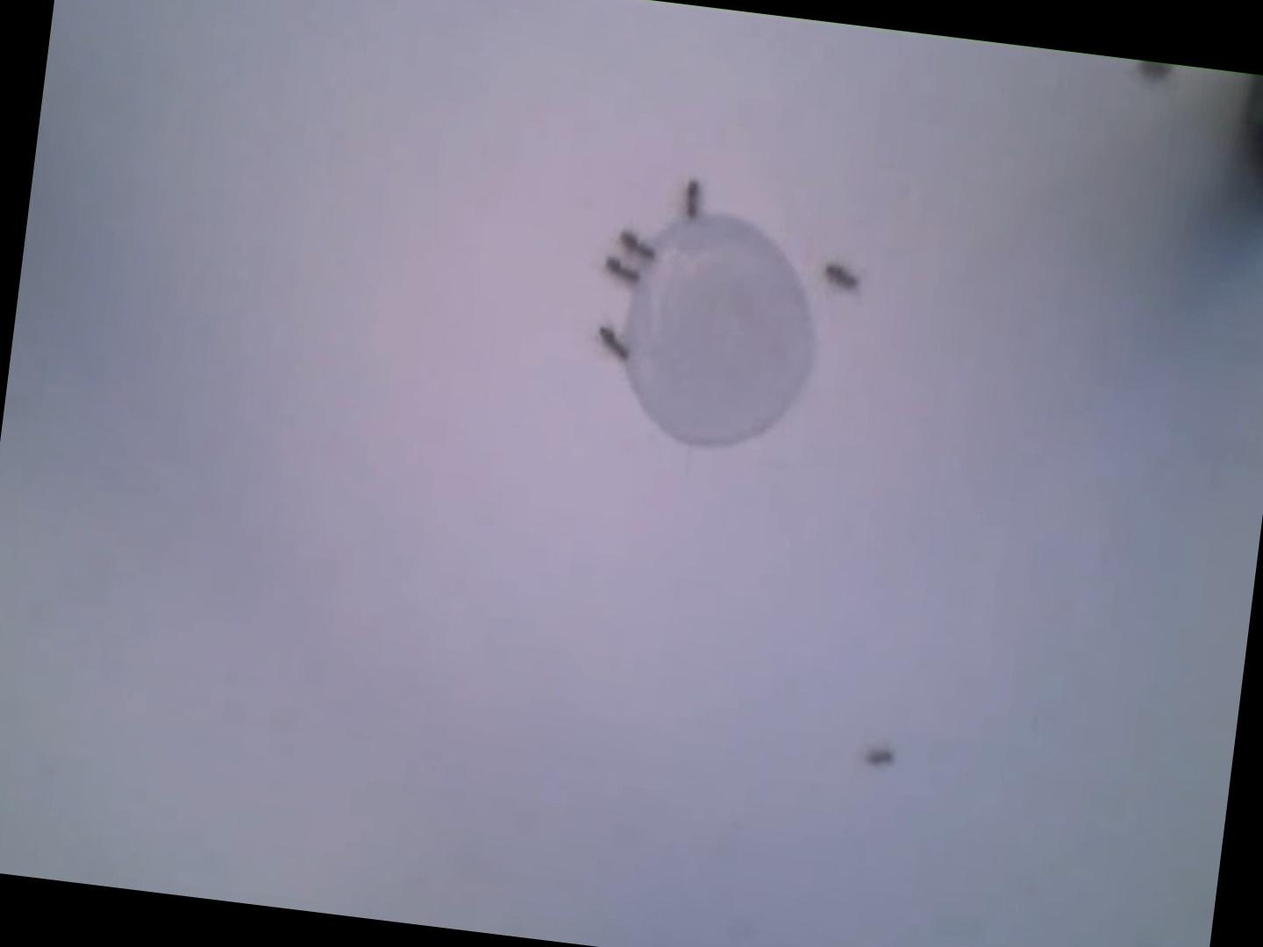Ant: (614, 230, 656, 262), (593, 324, 630, 359), (819, 262, 858, 294), (603, 255, 641, 285), (678, 178, 700, 219), (1132, 59, 1170, 81), (862, 745, 892, 768)
